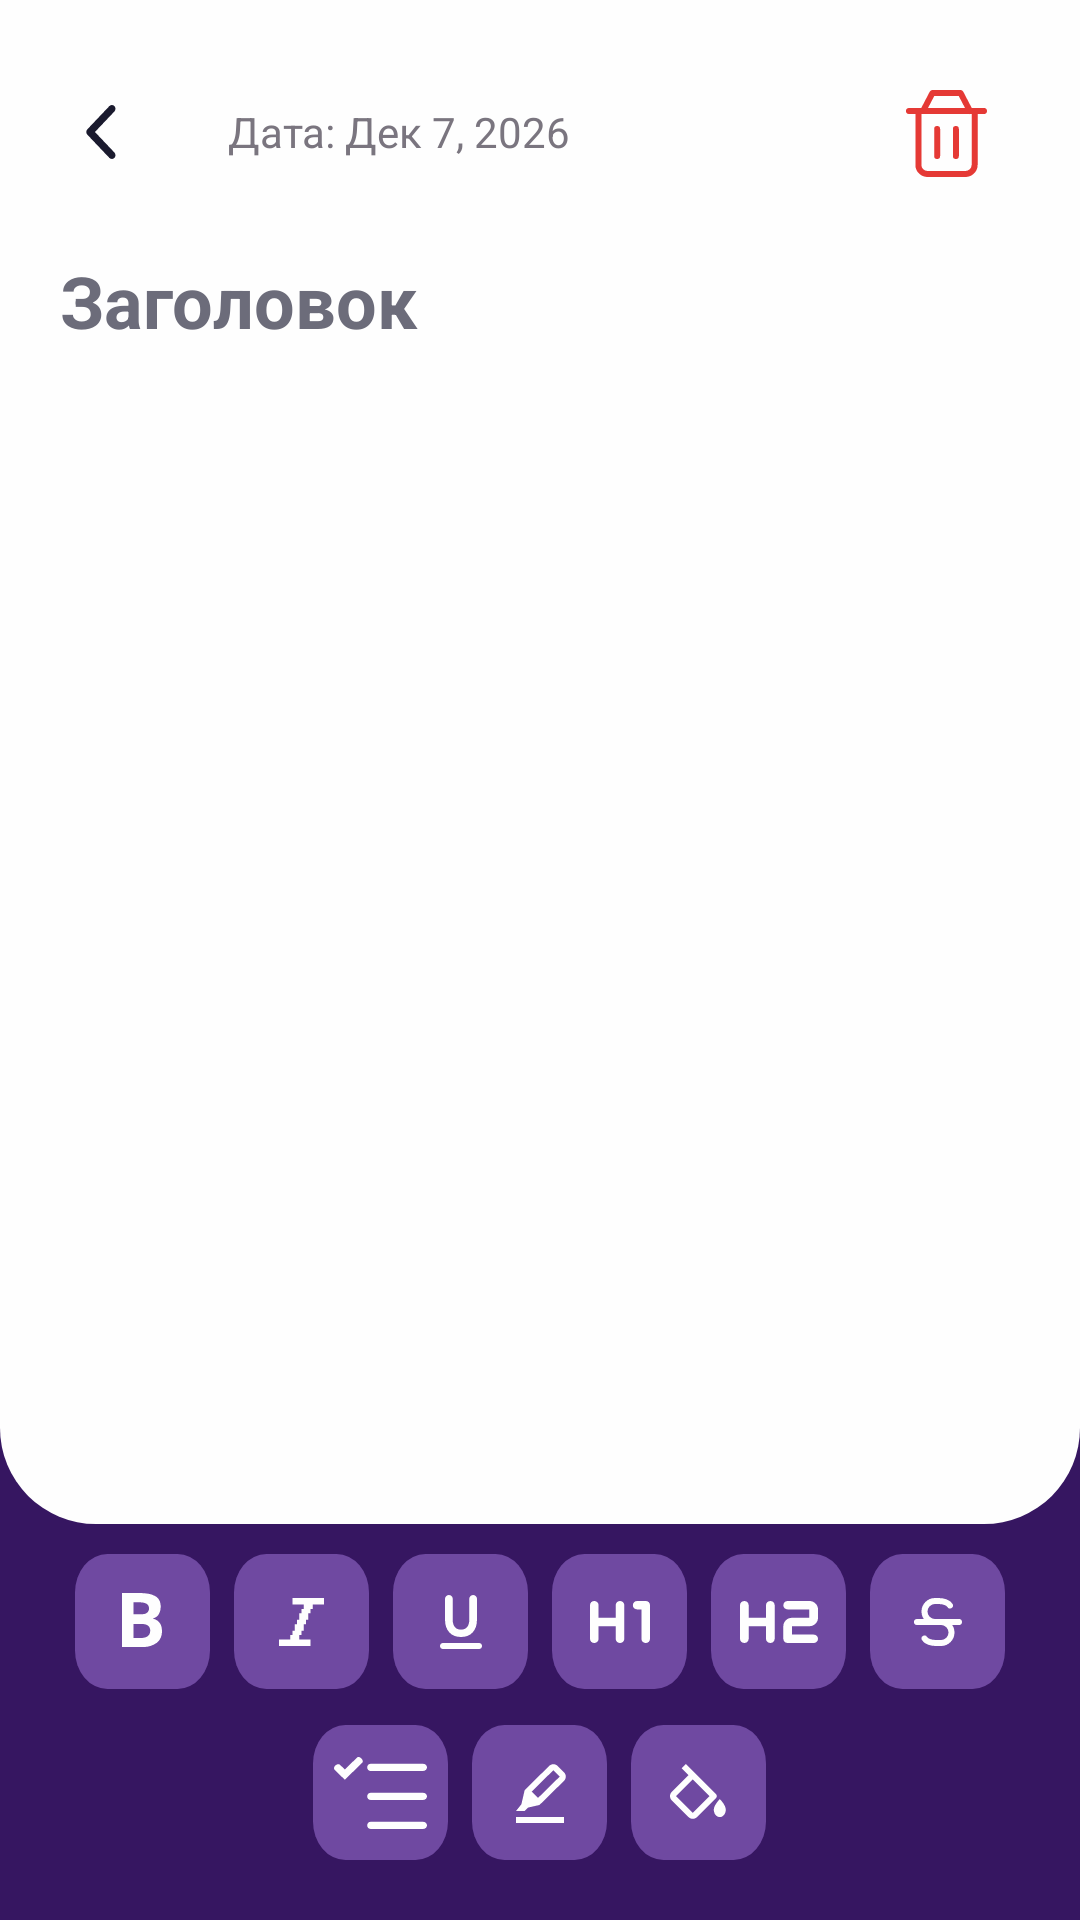

Screen size 1080px x 1920px. Icon name, then its center in pixels as (x=x, y=y):
back: (x=101, y=132)
basket: (x=946, y=133)
check list: (x=380, y=1792)
italic: (x=301, y=1621)
strikethrough: (x=937, y=1621)
underline: (x=460, y=1621)
